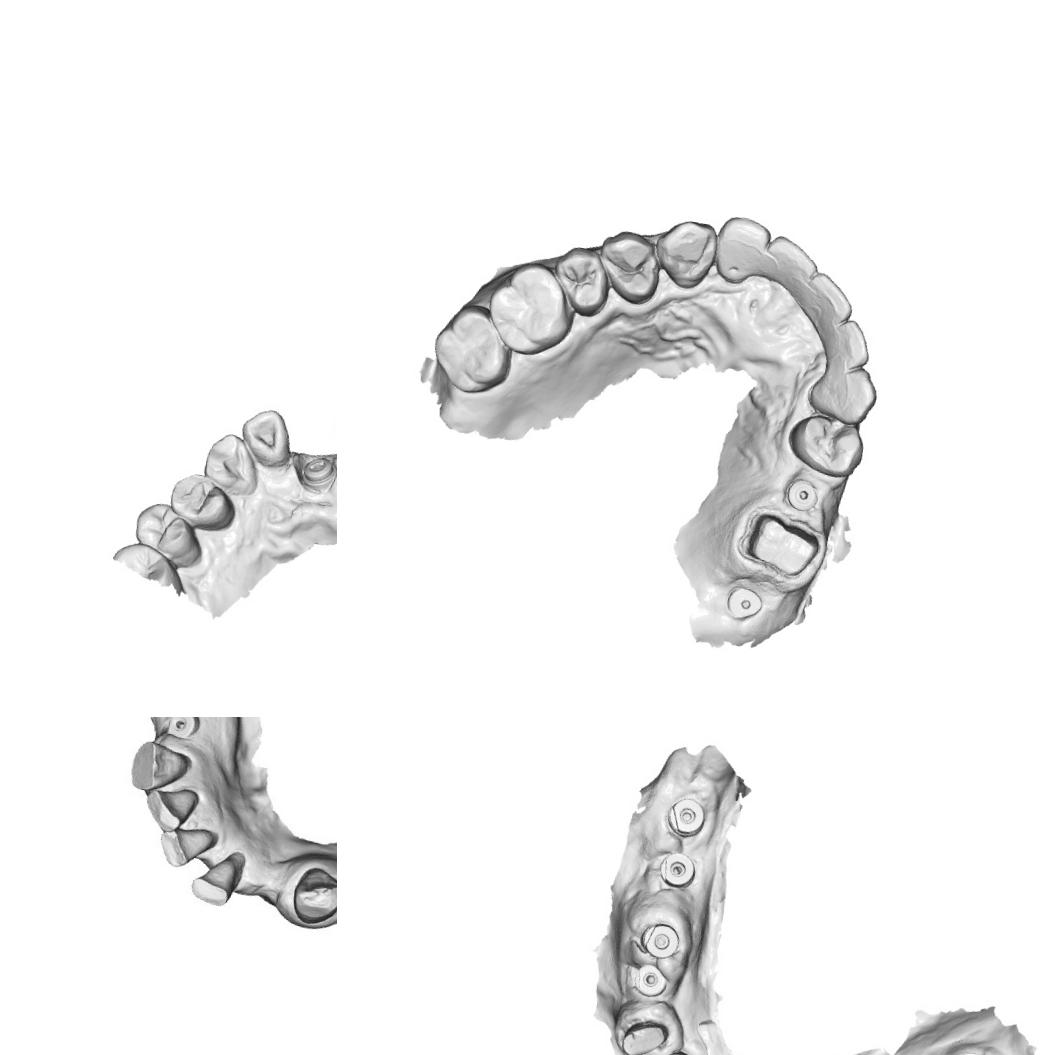canine: (646, 211, 720, 296), (800, 358, 884, 428), (198, 427, 266, 499), (123, 736, 198, 800), (291, 865, 337, 927)
crown: (735, 506, 826, 584), (609, 1010, 681, 1055)
implant: (636, 914, 686, 964), (660, 790, 708, 842), (653, 846, 701, 895), (630, 957, 676, 1004), (720, 582, 766, 628), (782, 472, 826, 518), (166, 717, 201, 743), (652, 1043, 699, 1055)
implant_minus: (292, 448, 337, 494)
incisor: (786, 265, 861, 337), (710, 210, 773, 288), (810, 310, 878, 374), (233, 402, 296, 470), (761, 232, 824, 296), (186, 848, 242, 904), (141, 781, 199, 834), (163, 824, 218, 870)
molar: (477, 252, 583, 363), (423, 296, 517, 401)
premolar: (587, 220, 668, 309), (780, 409, 870, 484), (126, 497, 210, 569), (160, 466, 242, 536), (547, 239, 617, 321)
